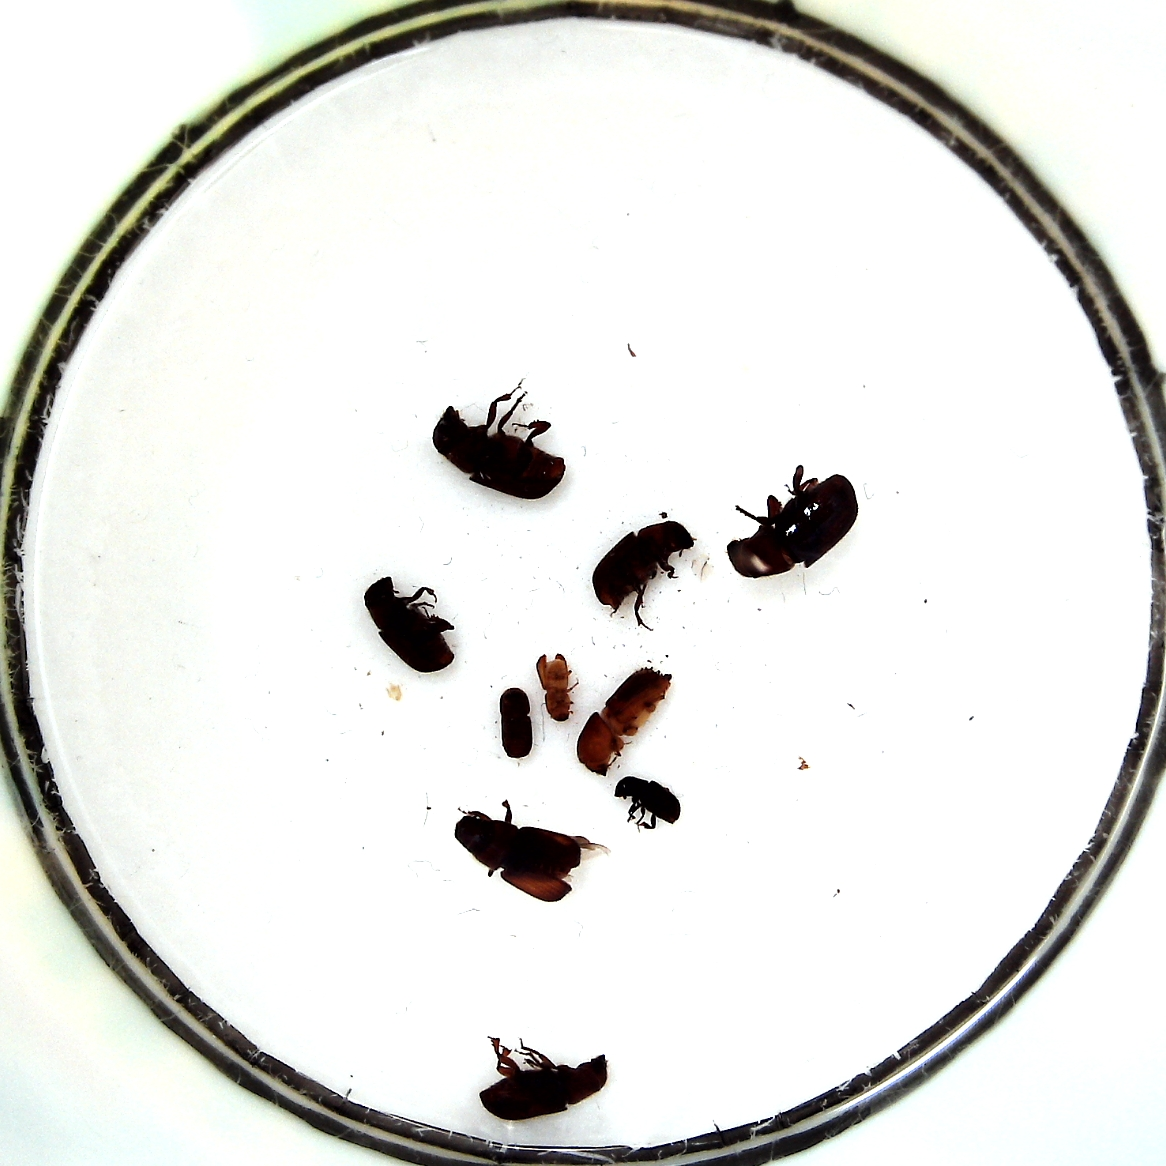Boerner: (578, 665, 672, 775)
Leconte: (448, 801, 609, 903), (724, 460, 858, 582), (434, 383, 568, 501), (471, 1038, 608, 1124), (593, 522, 694, 624), (363, 574, 459, 674)
Linnaeus: (495, 683, 537, 760)
acuminatus: (533, 652, 578, 722)
armandi: (610, 775, 686, 837)
